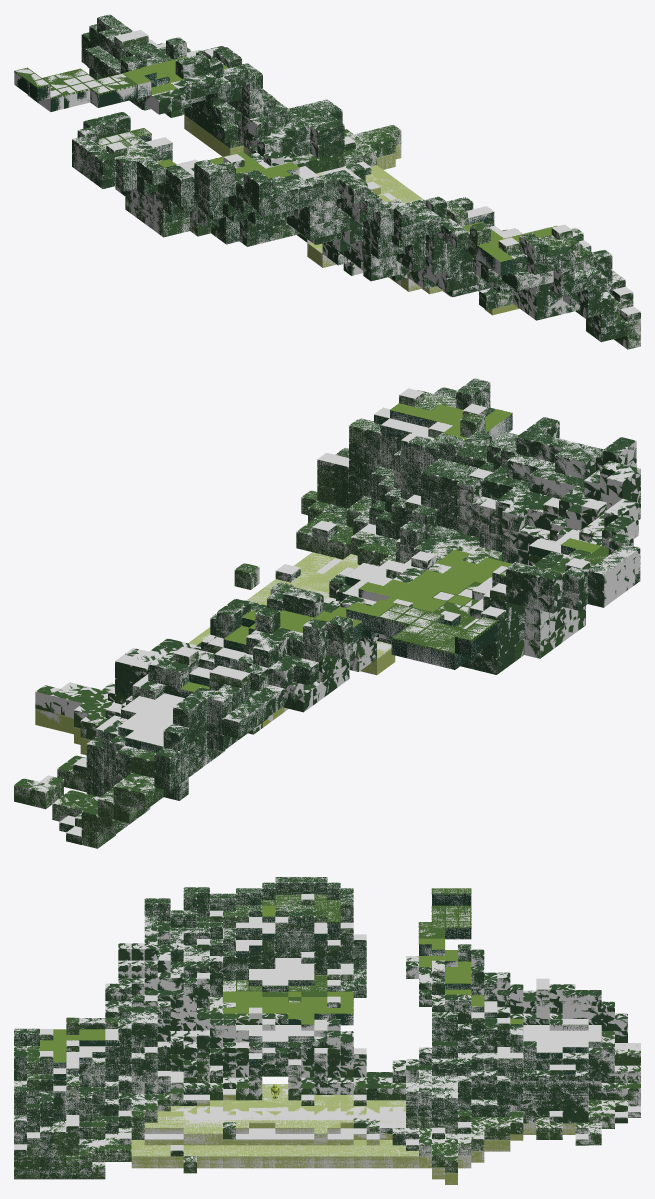
The model's file is Map_Beach.fbx.
3 renders of one model, top to bottom at view 1: azimuth 30°, elevation 25°; view 2: azimuth 150°, elevation 25°; view 3: azimuth 270°, elevation 25°, orthographic. The views are drawn at different scales.
Visible parts, largest first — view 1: TileGrid; view 2: TileGrid; view 3: TileGrid.
Part boxes in pixels (box(x1,y1,x2,y2)): TileGrid: box(14, 14, 640, 349); TileGrid: box(14, 378, 640, 847); TileGrid: box(14, 877, 640, 1184).
Size of the model in its own units: 60 by 96 by 26.
